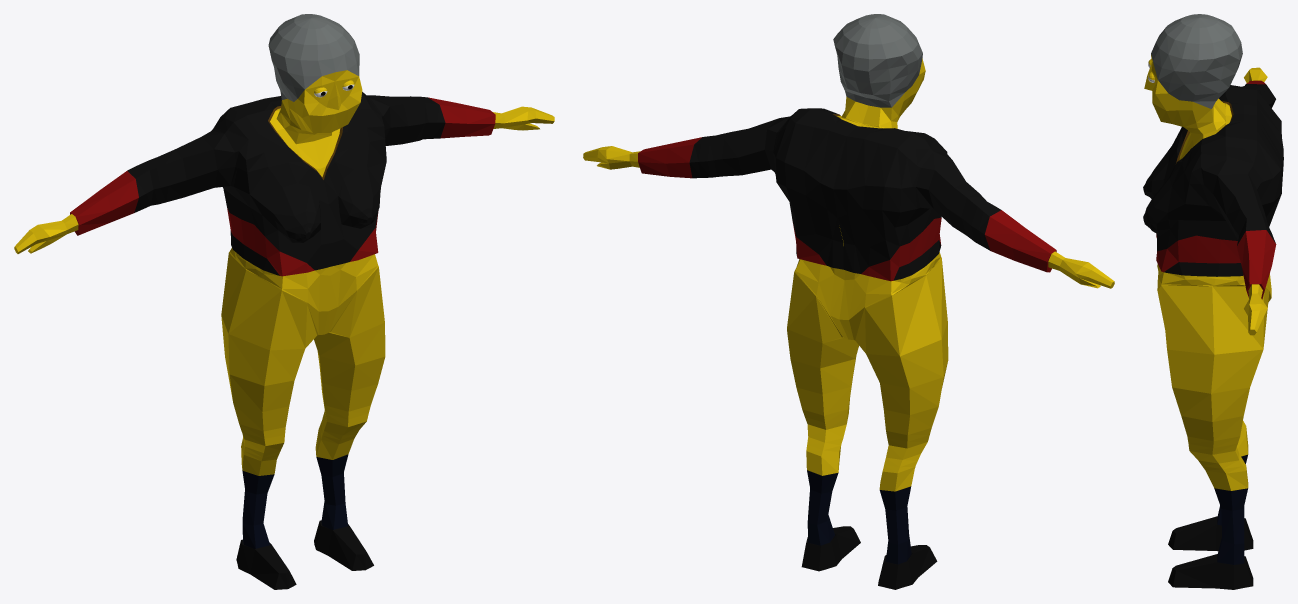
Rendered from Velha Nua.fbx.
The picture shows the model from 3 angles, left to right: view 1: azimuth 30°, elevation 25°; view 2: azimuth 150°, elevation 25°; view 3: azimuth 270°, elevation 25°; orthographic projection.
Visible parts, largest first — view 1: Velha Nua; view 2: Velha Nua; view 3: Velha Nua.
Boxes of the visible parts, bbox=[...] form: Velha Nua: bbox=[14, 14, 554, 589]; Velha Nua: bbox=[583, 14, 1114, 589]; Velha Nua: bbox=[1143, 14, 1283, 589].
Size of the model in its own units: 1.55 by 1.51 by 0.3533.
